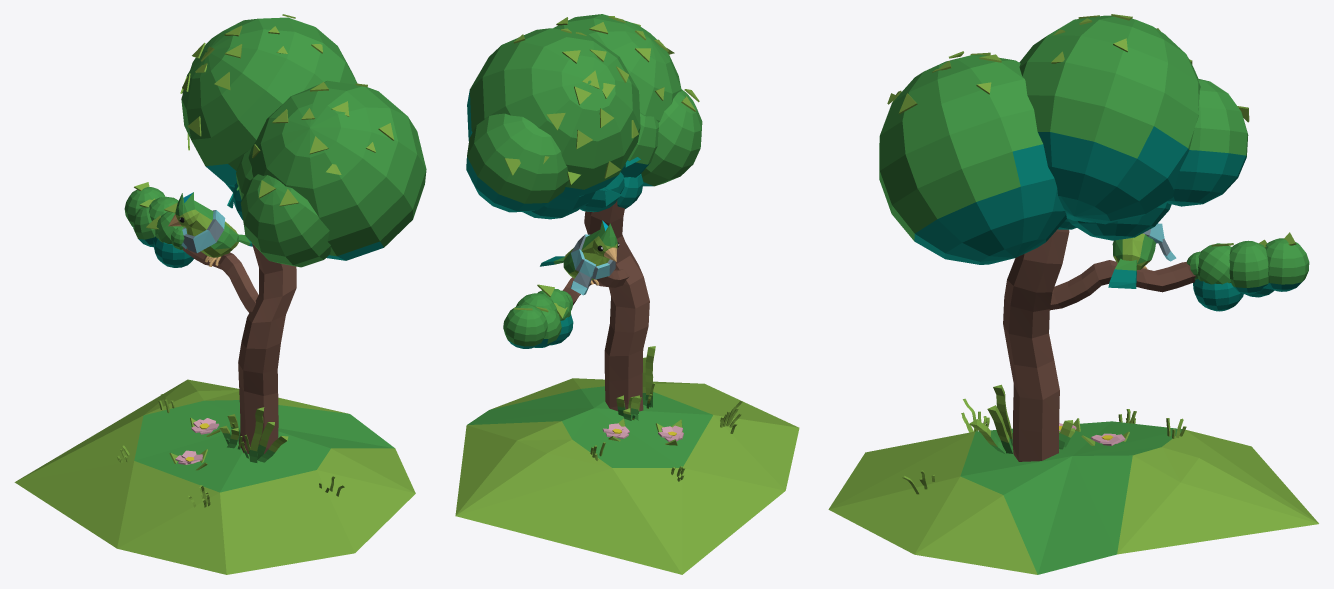
3 views of the same model, side by side, from view 1: azimuth 30°, elevation 25°; view 2: azimuth 150°, elevation 25°; view 3: azimuth 270°, elevation 25° (orthographic). The views are drawn at different scales.
Visible parts, largest first — view 1: node_MeshObject1315610176-PolyPaper9, node_MeshObject-426379968-PolyPaper9; view 2: node_MeshObject1315610176-PolyPaper9, node_MeshObject-426379968-PolyPaper9; view 3: node_MeshObject1315610176-PolyPaper9, node_MeshObject-426379968-PolyPaper9.
Part boxes in pixels (x1=…): node_MeshObject1315610176-PolyPaper9: x1=124, y1=14, x2=426, y2=462; node_MeshObject-426379968-PolyPaper9: x1=14, y1=192, x2=415, y2=574; node_MeshObject1315610176-PolyPaper9: x1=466, y1=14, x2=702, y2=441; node_MeshObject-426379968-PolyPaper9: x1=455, y1=220, x2=799, y2=574; node_MeshObject1315610176-PolyPaper9: x1=879, y1=14, x2=1309, y2=461; node_MeshObject-426379968-PolyPaper9: x1=828, y1=398, x2=1318, y2=574.
Bounding box in the file's own units: 1.02 × 1.54 × 1.28.
